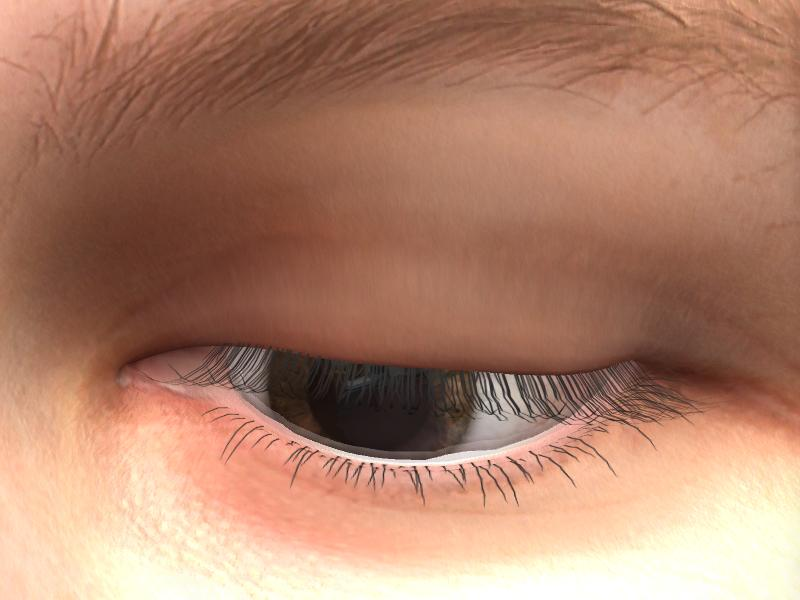eye: (265, 346, 474, 459)
